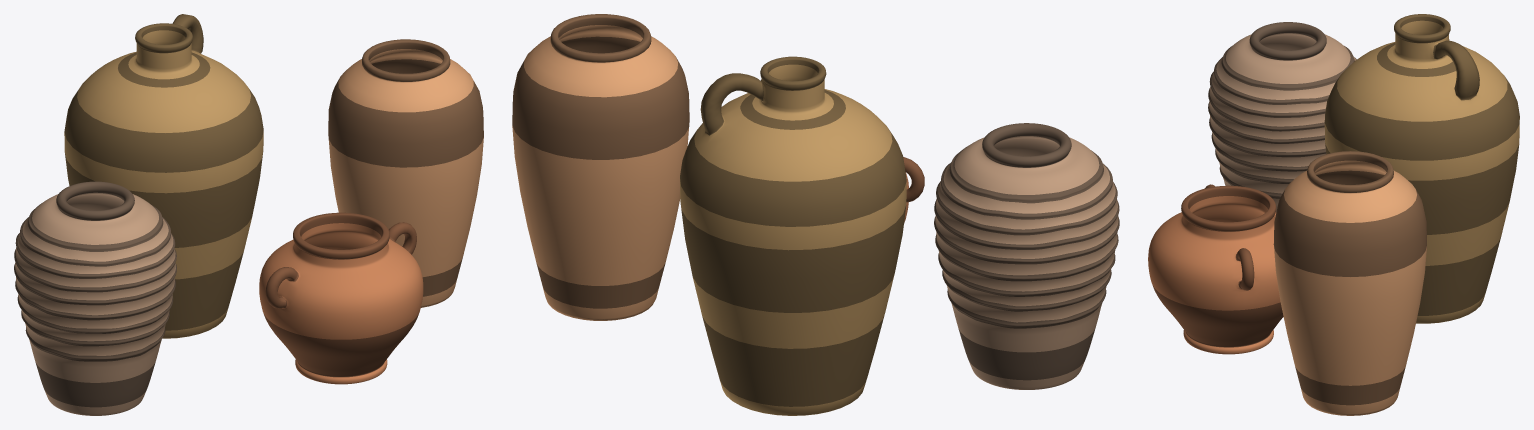
File: Clay Vases.glb
3 views of the same model, side by side, from view 1: azimuth 30°, elevation 25°; view 2: azimuth 150°, elevation 25°; view 3: azimuth 270°, elevation 25° (orthographic). The views are drawn at different scales.
Visible parts, largest first — view 1: 1, 3, 4, 2; view 2: 1, 4, 3, 2; view 3: 1, 4, 3, 2.
Part boxes in pixels (<box>): 1: <box>64,14,263,338</box>; 3: <box>14,181,176,415</box>; 4: <box>328,39,483,307</box>; 2: <box>259,212,423,384</box>; 1: <box>680,56,906,415</box>; 4: <box>512,14,689,320</box>; 3: <box>934,123,1119,389</box>; 2: <box>903,157,924,223</box>; 1: <box>1324,14,1519,323</box>; 4: <box>1273,151,1427,415</box>; 3: <box>1208,22,1356,211</box>; 2: <box>1148,184,1283,354</box>.
Bounding box in the file's own units: 1.08 × 0.5967 × 0.7345.
